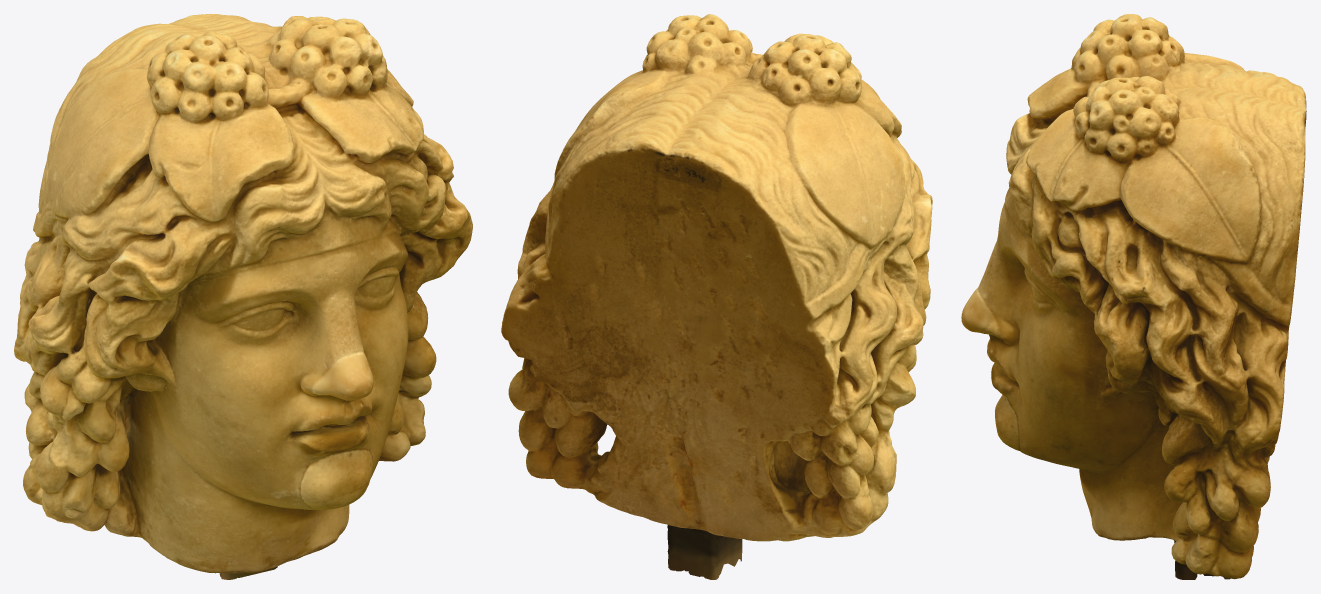
Rendered from tete_de_bacchus.glb.
The picture shows the model from 3 angles, left to right: view 1: azimuth 30°, elevation 25°; view 2: azimuth 150°, elevation 25°; view 3: azimuth 270°, elevation 25°; orthographic projection. The views are drawn at different scales.
Parts seen in each view (by area): view 1: Object_2; view 2: Object_2; view 3: Object_2.
Boxes of the visible parts, left/top/right/bottom form: Object_2: left=14, top=14, right=472, bottom=579; Object_2: left=501, top=14, right=932, bottom=579; Object_2: left=961, top=14, right=1306, bottom=579.
Size of the model in its own units: 0.1924 by 0.2481 by 0.1502.
Materials: 1 (1 with a texture image).
